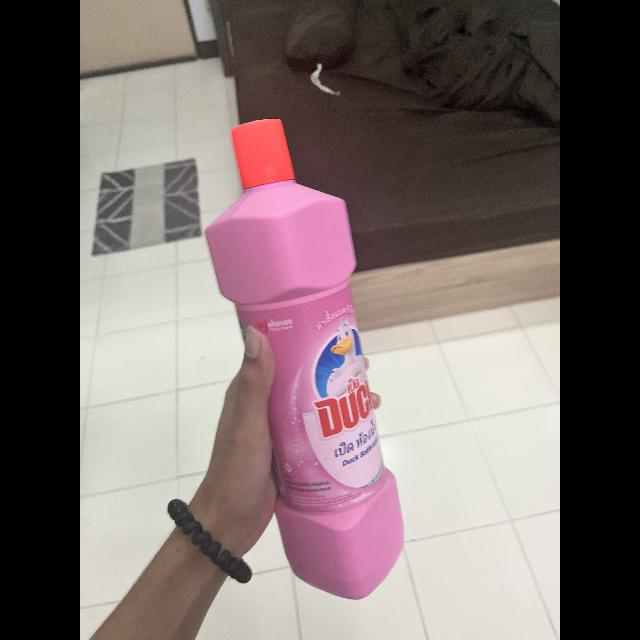chemical_plastic_bottle: (202, 103, 408, 609)
